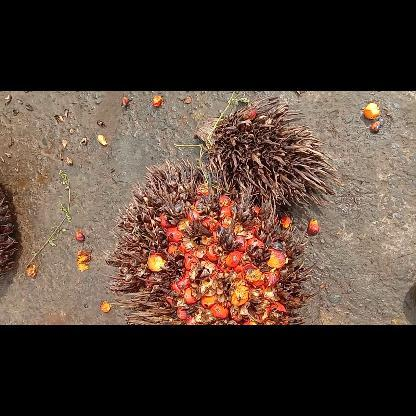Janjang kosong: (193, 96, 336, 206)
Terlalu masak: (103, 158, 315, 324)
